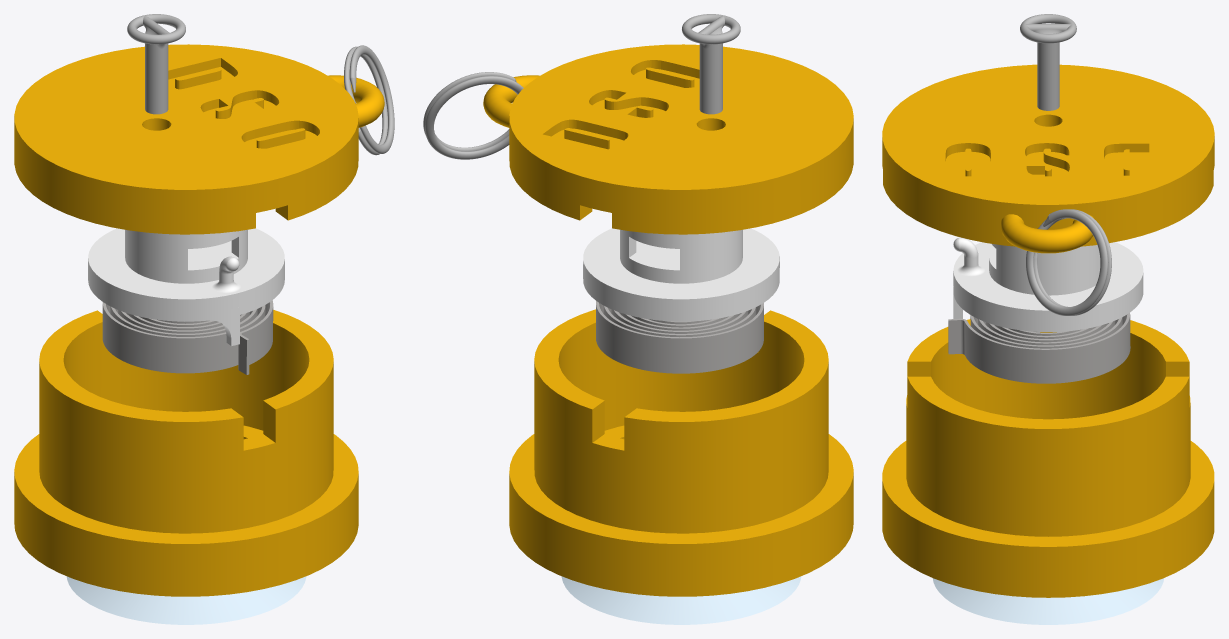
The model's file is DSO.glb.
3 views of the same model, side by side, from view 1: azimuth 30°, elevation 25°; view 2: azimuth 150°, elevation 25°; view 3: azimuth 270°, elevation 25° (orthographic). The views are drawn at different scales.
Visible parts, largest first — view 1: Solid1 (×4), Solid2, Těleso2, Solid4, Solid5; view 2: Solid1 (×4), Solid2, Těleso2, Solid5, Solid4; view 3: Solid1 (×4), Solid2, Těleso2, Solid4, Solid5.
Part boxes in pixels (x1,y1,x2,y2): Solid1 (×4): (14, 14, 384, 624); Solid2: (14, 310, 358, 596); Těleso2: (102, 300, 273, 374); Solid4: (349, 45, 394, 153); Solid5: (344, 46, 387, 155); Solid1 (×4): (483, 14, 853, 624); Solid2: (509, 309, 853, 596); Těleso2: (596, 301, 763, 373); Solid5: (425, 76, 516, 159); Solid4: (423, 72, 515, 151); Solid1 (×4): (882, 14, 1214, 624); Solid2: (882, 319, 1214, 597); Těleso2: (948, 313, 1130, 383); Solid4: (1026, 209, 1108, 315); Solid5: (1033, 209, 1111, 315).
Size of the model in its own units: 0.1131 by 0.1586 by 0.0889.
